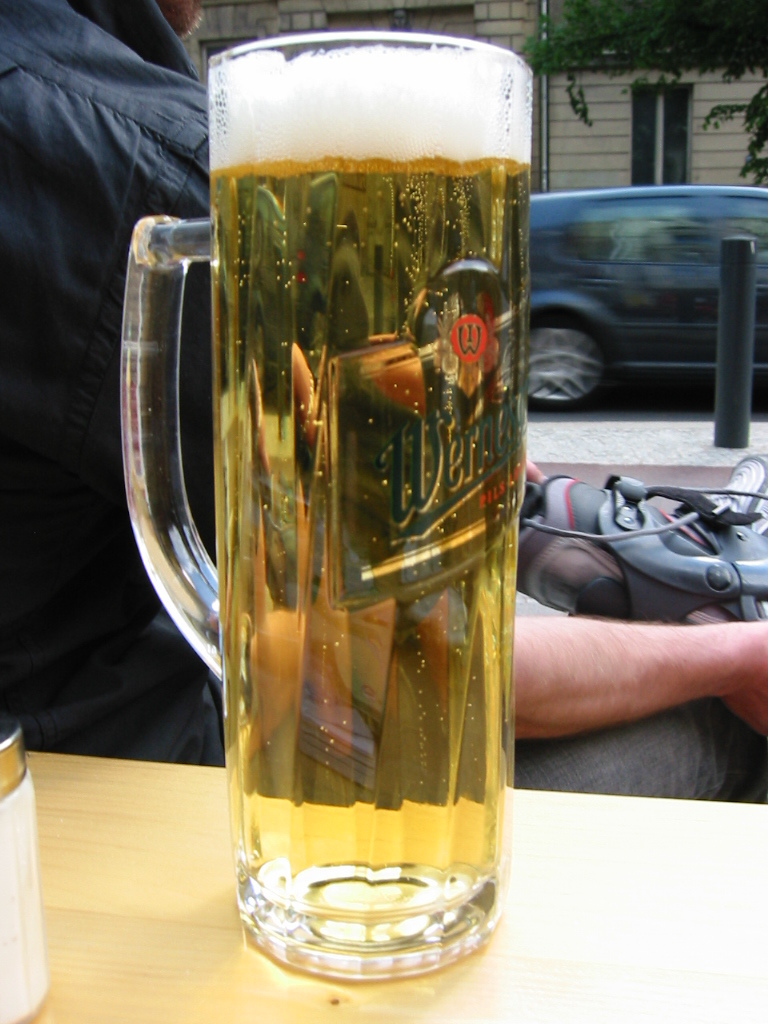Beer: (121, 29, 531, 982)
